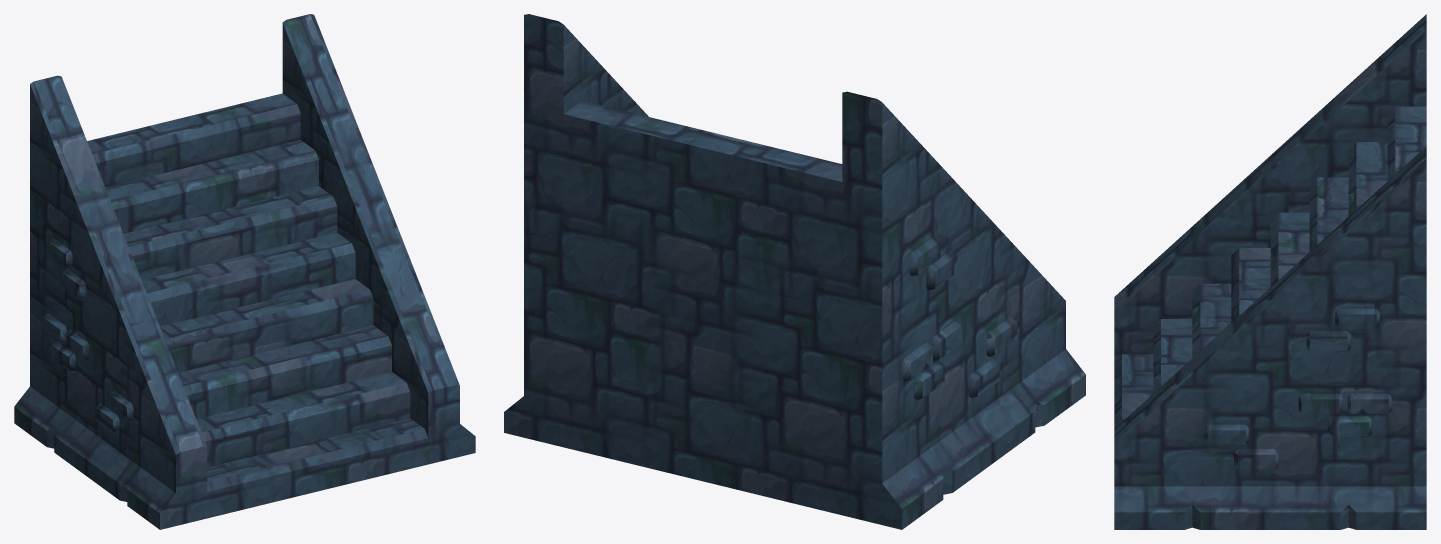
Rendered from stairs.gltf.
3 views of the same model, side by side, from view 1: azimuth 30°, elevation 25°; view 2: azimuth 150°, elevation 25°; view 3: azimuth 270°, elevation 25° (orthographic). The views are drawn at different scales.
Visible parts, largest first — view 1: stairs; view 2: stairs; view 3: stairs.
Boxes of the visible parts, box(x1,y1,x2,y2) form: stairs: box(14, 14, 475, 529); stairs: box(504, 14, 1085, 529); stairs: box(1114, 14, 1426, 529).
Bounding box in the file's own units: 5 × 5.1 × 4.
Materials: 1 (1 with a texture image).
